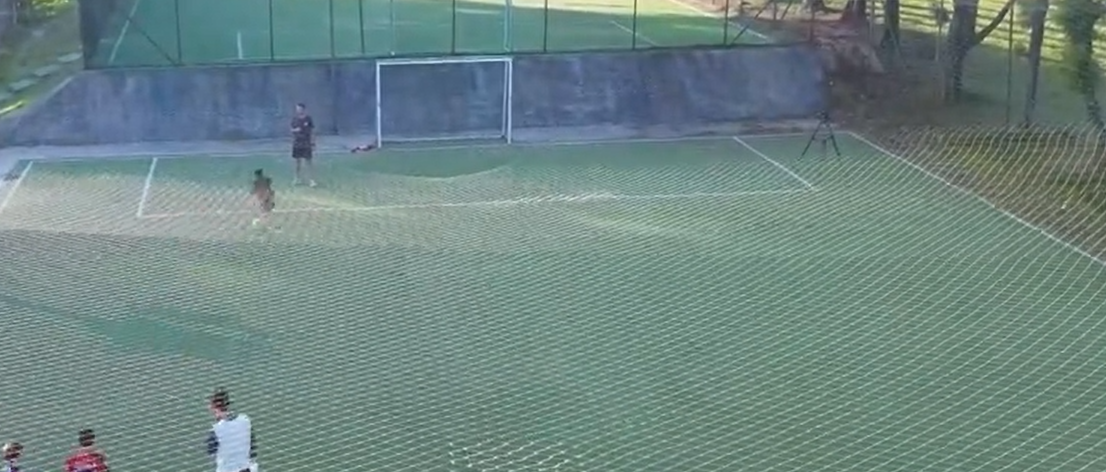goal: (369, 48, 522, 158)
